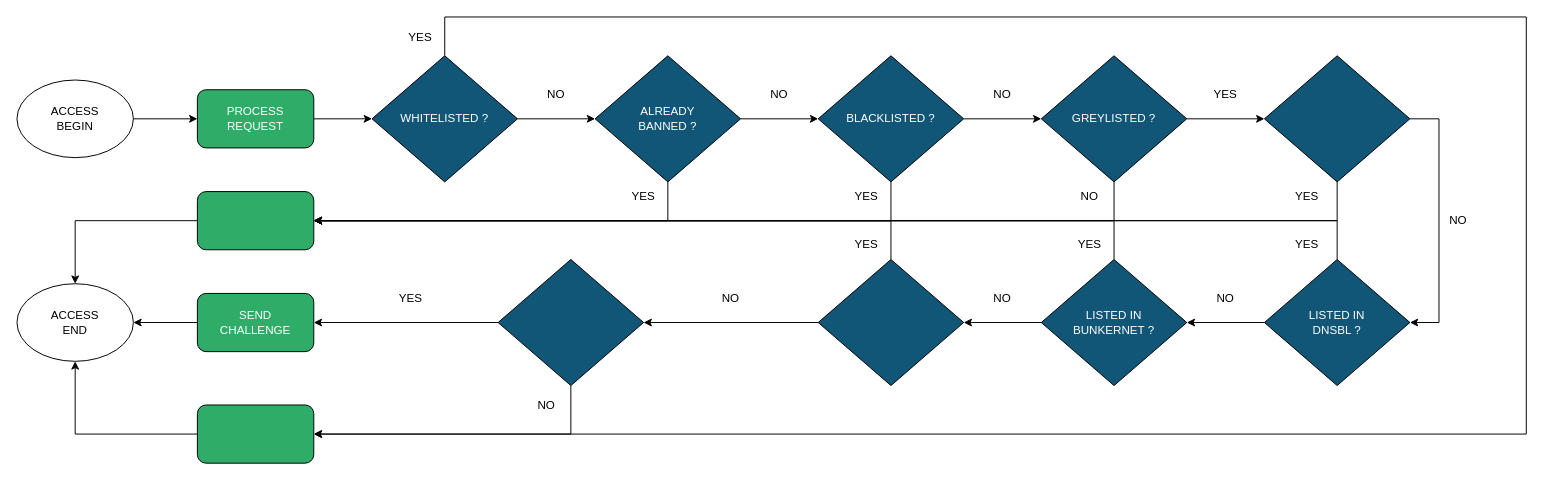
Some shapes in this 1551 by 480 pixel diagram are drawn without their labels. The centre of each missing label's shape, as x and y in pixels:
"ALLOW REQUEST" belongs at (255,433).
"ANTIBOT CHECK NEEDED ?" belongs at (570,322).
"COUNTRY BANNED ?" belongs at (1336,118).
"DENY REQUEST" belongs at (255,220).
"RATE LIMITED ?" belongs at (890,322).
